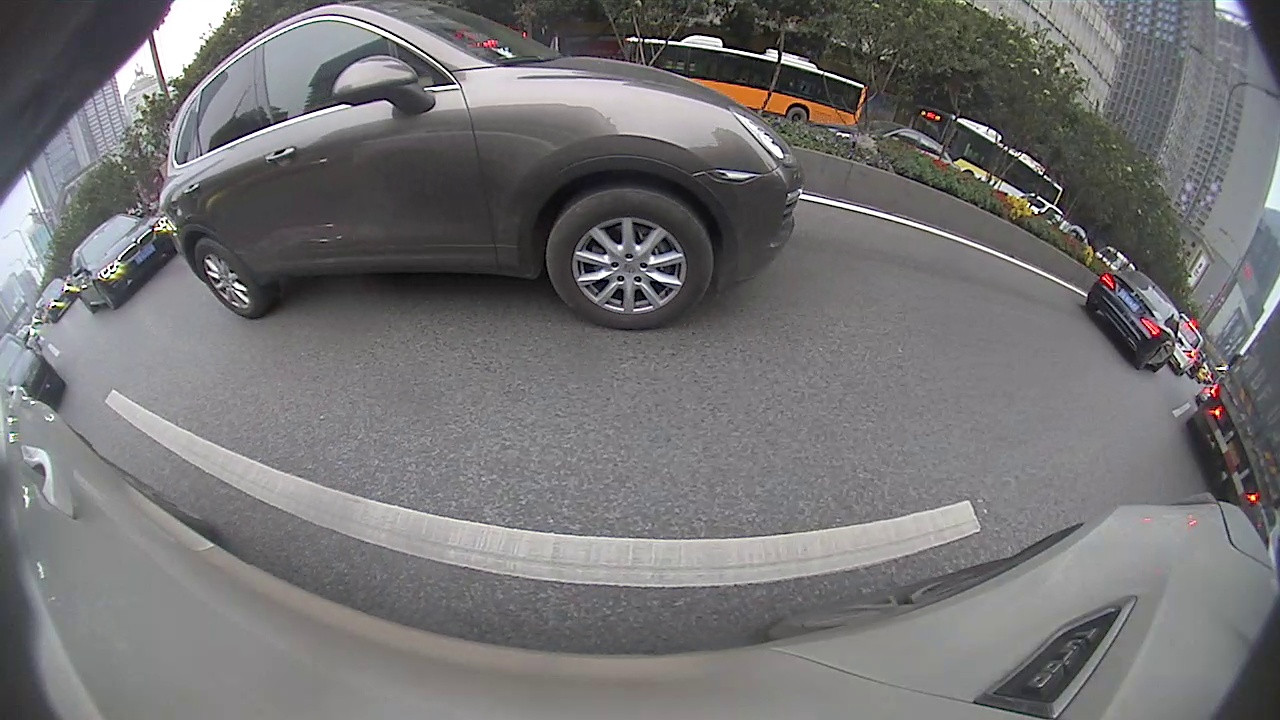car: (167, 1, 801, 330), (66, 214, 177, 313), (1081, 265, 1180, 370)
front: (549, 187, 715, 328)
rear: (195, 238, 265, 318), (786, 105, 809, 126)
